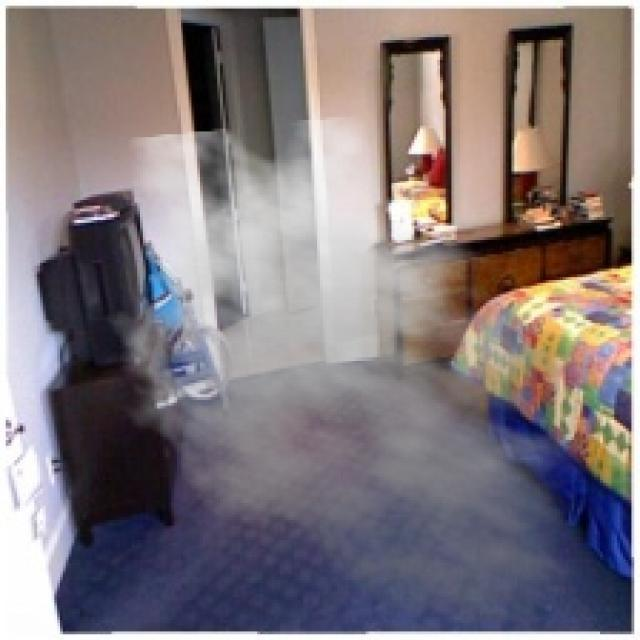Smoke: (91, 114, 632, 632)
